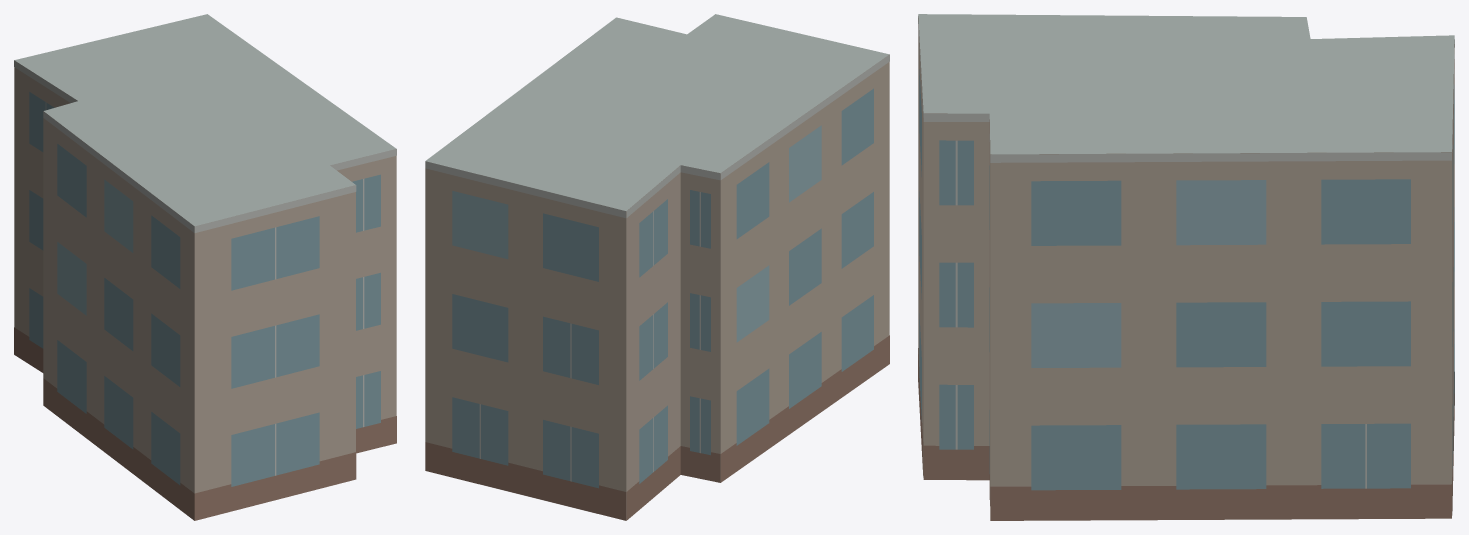
File: survey-upis-32812665.glb
3 views of the same model, side by side, from view 1: azimuth 30°, elevation 25°; view 2: azimuth 150°, elevation 25°; view 3: azimuth 270°, elevation 25° (orthographic). The views are drawn at different scales.
Visible parts, largest first — view 1: survey-upis-32812665.tmp; view 2: survey-upis-32812665.tmp; view 3: survey-upis-32812665.tmp.
Part boxes in pixels (x1,y1,x2,y2): survey-upis-32812665.tmp: [14, 14, 396, 520]; survey-upis-32812665.tmp: [425, 14, 889, 520]; survey-upis-32812665.tmp: [918, 14, 1454, 520].
Bounding box in the file's own units: 8.63 × 10.5 × 13.94.
